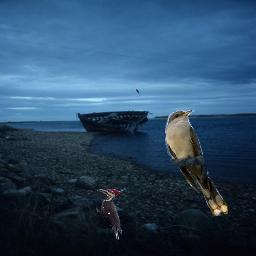Cuckoo: (165, 110, 228, 216)
Woodpecker: (96, 189, 122, 240)
